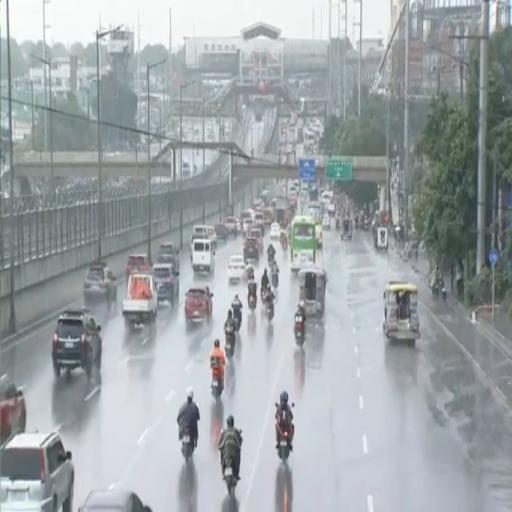bus: (289, 216, 317, 270), (303, 202, 324, 247), (309, 185, 318, 201)
car: (0, 432, 74, 511), (52, 308, 101, 378), (0, 375, 26, 443), (79, 489, 152, 511), (84, 262, 117, 306), (153, 264, 179, 305), (185, 285, 213, 323), (126, 254, 151, 280), (158, 243, 179, 270), (193, 226, 217, 248), (228, 254, 245, 282), (248, 226, 263, 253), (244, 238, 260, 261), (190, 234, 203, 262), (224, 217, 240, 236), (240, 208, 254, 229), (215, 223, 228, 241), (242, 218, 254, 237), (255, 212, 264, 235), (156, 254, 174, 265), (263, 208, 273, 226), (270, 222, 280, 239), (322, 215, 330, 229), (328, 203, 335, 216)
motorcycle: (223, 458, 237, 495), (277, 427, 291, 461), (224, 459, 237, 495), (182, 428, 194, 461), (294, 314, 305, 346), (225, 326, 235, 359), (432, 280, 446, 301), (212, 376, 223, 398), (233, 308, 241, 332), (266, 301, 274, 321), (249, 294, 257, 311), (271, 271, 278, 287), (268, 253, 275, 267), (281, 237, 287, 250), (336, 218, 340, 230)
truck: (122, 272, 157, 329)
